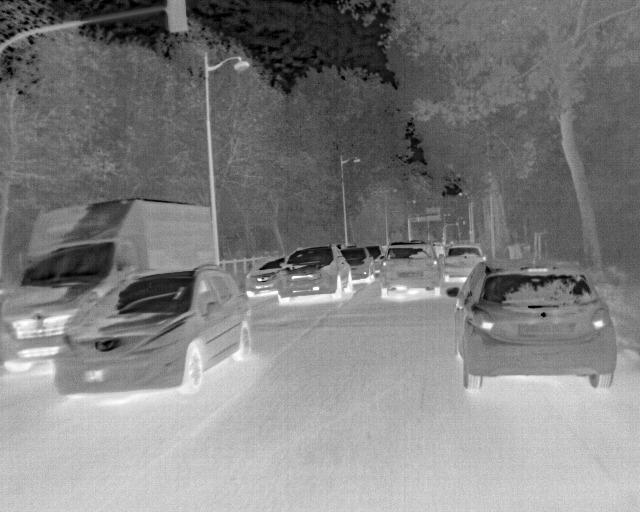car: (2, 198, 215, 378), (53, 263, 254, 396), (446, 258, 618, 391), (275, 244, 352, 304), (379, 240, 442, 297), (245, 255, 289, 297), (441, 245, 486, 282), (340, 247, 374, 283), (365, 245, 385, 271), (433, 243, 446, 262)
light: (167, 0, 188, 33)
sign: (426, 216, 441, 222), (426, 208, 440, 214), (411, 217, 426, 222)
